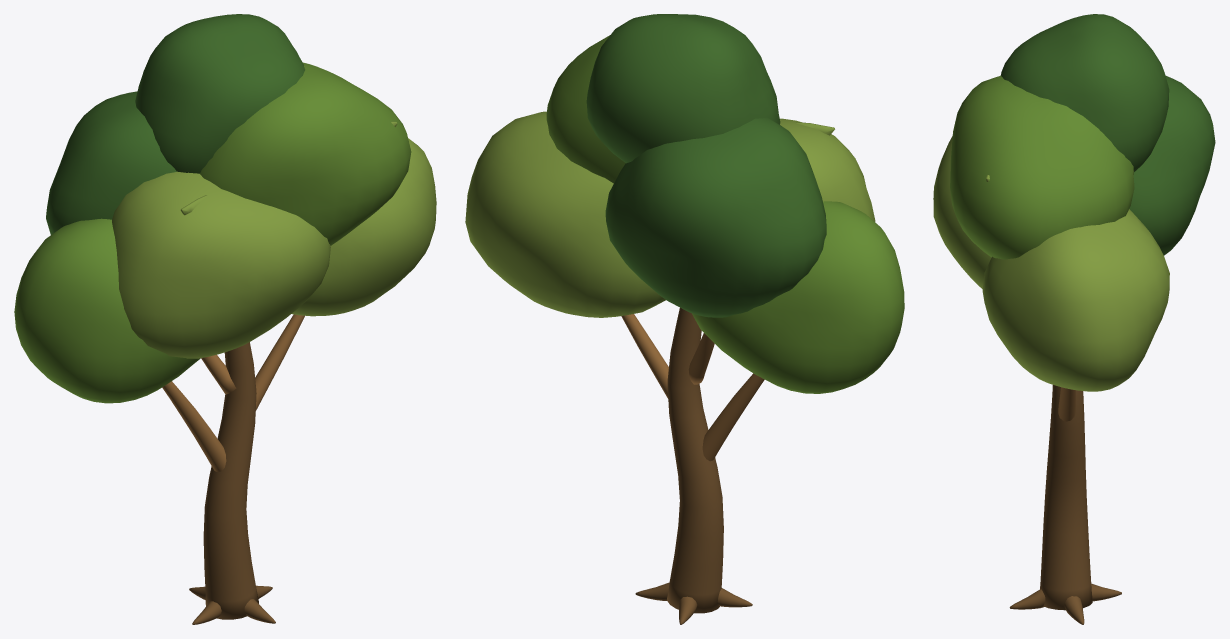
Rendered from garden_sapling.glb.
The picture shows the model from 3 angles, left to right: view 1: azimuth 30°, elevation 25°; view 2: azimuth 150°, elevation 25°; view 3: azimuth 270°, elevation 25°; orthographic projection. The views are drawn at different scales.
Visible parts, largest first — view 1: Canopy, Trunk, Branch_0, Branch_1, Branch_2; view 2: Canopy, Trunk, Branch_0, Branch_1, Branch_2; view 3: Canopy, Trunk, Branch_1, Root_3, Root_0.
Part boxes in pixels (x1,y1,x2,y2): Canopy: (14, 14, 436, 403); Trunk: (203, 342, 258, 619); Branch_0: (162, 381, 226, 471); Branch_1: (255, 314, 304, 410); Branch_2: (201, 354, 236, 394); Canopy: (465, 14, 904, 393); Trunk: (667, 307, 723, 613); Branch_0: (702, 373, 764, 461); Branch_1: (621, 314, 668, 398); Branch_2: (688, 333, 714, 384); Canopy: (933, 14, 1215, 391); Trunk: (1040, 385, 1092, 610); Branch_1: (1058, 387, 1075, 421); Root_3: (1009, 589, 1045, 609); Root_0: (1064, 596, 1084, 624).
Bounding box in the file's own units: 2.36 × 3.17 × 1.4.
